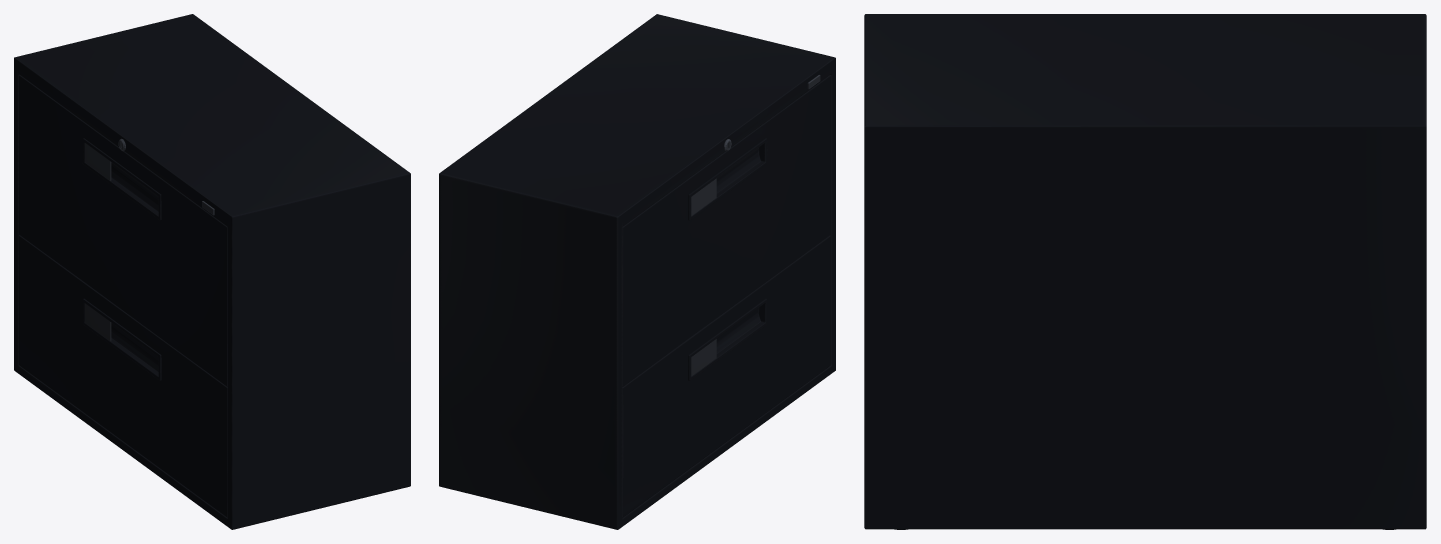
File: Cabinet_Shelf_Desk_bd68e830-18a3-4b11-bab5-0065a5531d83_3.glb
The picture shows the model from 3 angles, left to right: view 1: azimuth 30°, elevation 25°; view 2: azimuth 150°, elevation 25°; view 3: azimuth 270°, elevation 25°; orthographic projection. The views are drawn at different scales.
Visible parts, largest first — view 1: Cabinet_Shelf_Desk_bd68e830-18a3-4b11-bab5-0065a5531d83_3.ob; view 2: Cabinet_Shelf_Desk_bd68e830-18a3-4b11-bab5-0065a5531d83_3.ob; view 3: Cabinet_Shelf_Desk_bd68e830-18a3-4b11-bab5-0065a5531d83_3.ob.
Part boxes in pixels (x1,y1,x2,y2): Cabinet_Shelf_Desk_bd68e830-18a3-4b11-bab5-0065a5531d83_3.ob: (14, 14, 410, 529); Cabinet_Shelf_Desk_bd68e830-18a3-4b11-bab5-0065a5531d83_3.ob: (439, 14, 835, 529); Cabinet_Shelf_Desk_bd68e830-18a3-4b11-bab5-0065a5531d83_3.ob: (864, 14, 1426, 529).
Size of the model in its own units: 0.1311 by 0.2203 by 0.2736.
1 material, 1 textured.
